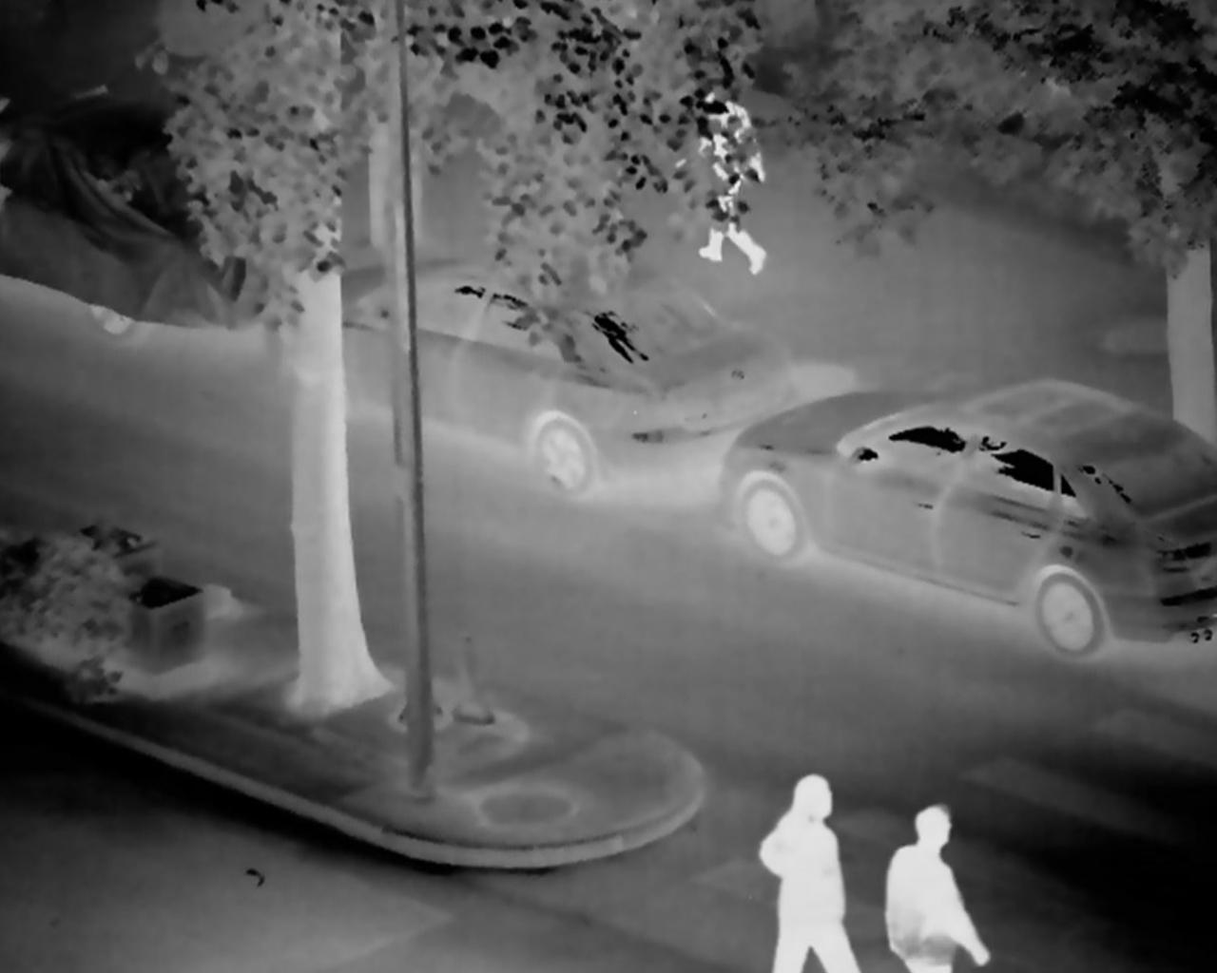person: (760, 769, 860, 973), (684, 90, 790, 280), (883, 804, 996, 973)
